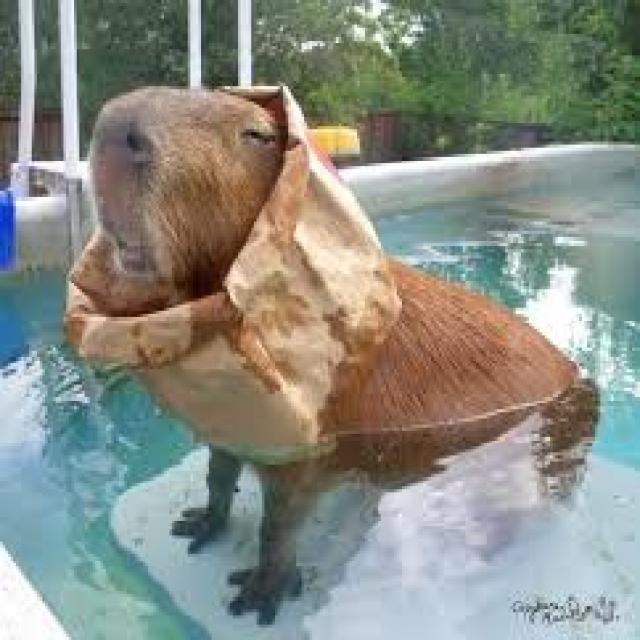capy: (59, 81, 596, 624)
